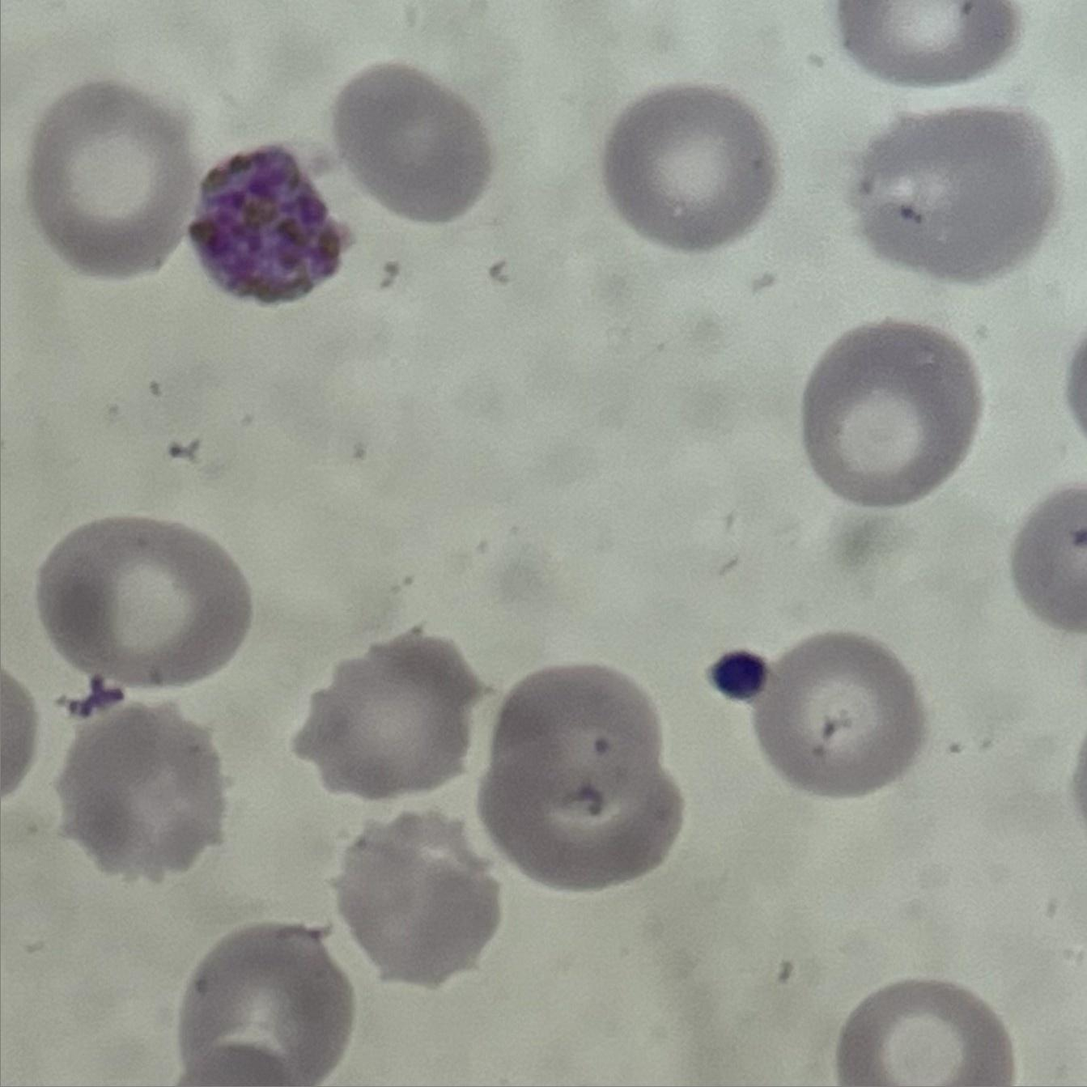Infected: (186, 136, 361, 307)
Uninfected: (850, 103, 1051, 287), (32, 516, 246, 683), (27, 82, 195, 287), (596, 82, 782, 257), (294, 627, 478, 802), (804, 317, 981, 496), (332, 805, 492, 991), (472, 751, 681, 892), (65, 705, 226, 886), (494, 654, 652, 834), (758, 630, 925, 800), (181, 924, 353, 1087), (329, 66, 488, 226), (836, 972, 1019, 1087)
